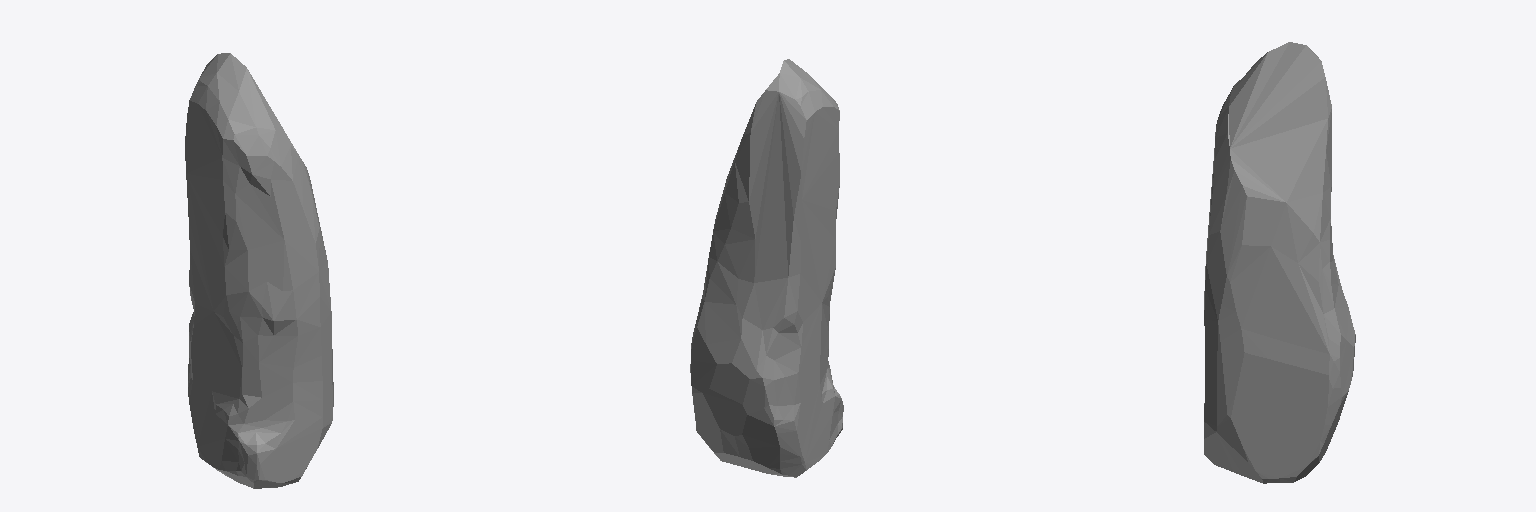
Rendered from VolcanicSpire1.obj.
3 renders of one model, left to right at view 1: azimuth 30°, elevation 25°; view 2: azimuth 150°, elevation 25°; view 3: azimuth 270°, elevation 25°, orthographic.
Parts seen in each view (by area): view 1: Rock_07; view 2: Rock_07; view 3: Rock_07.
Part boxes in pixels (bbox=[...]): Rock_07: bbox=[185, 53, 333, 488]; Rock_07: bbox=[690, 59, 843, 477]; Rock_07: bbox=[1204, 42, 1355, 483].
Size of the model in its own units: 2.09 by 7.77 by 2.62.